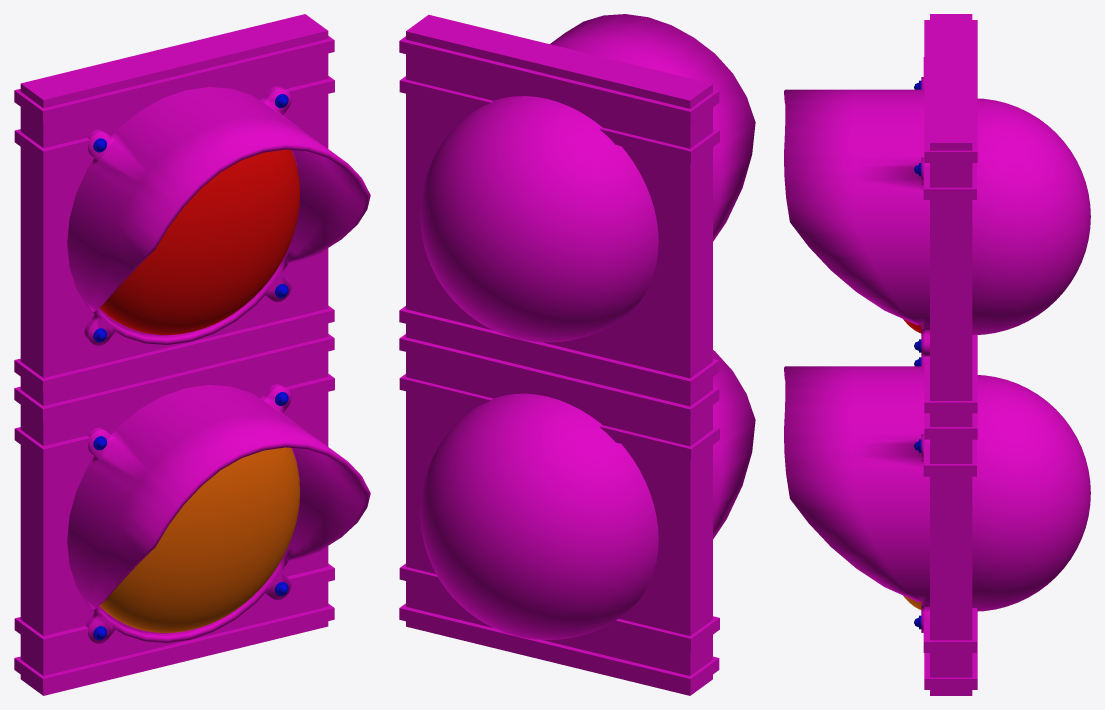
File: semaforChodci.fbx
3 renders of one model, left to right at view 1: azimuth 30°, elevation 25°; view 2: azimuth 150°, elevation 25°; view 3: azimuth 270°, elevation 25°, orthographic. The views are drawn at different scales.
Visible parts, largest first — view 1: semafor.002; view 2: semafor.002; view 3: semafor.002.
Boxes of the visible parts, x1,y1,x2,y2 form: semafor.002: [14, 14, 370, 695]; semafor.002: [399, 14, 755, 695]; semafor.002: [784, 14, 1090, 695].
Size of the model in its own units: 36.88 by 72 by 36.2.
